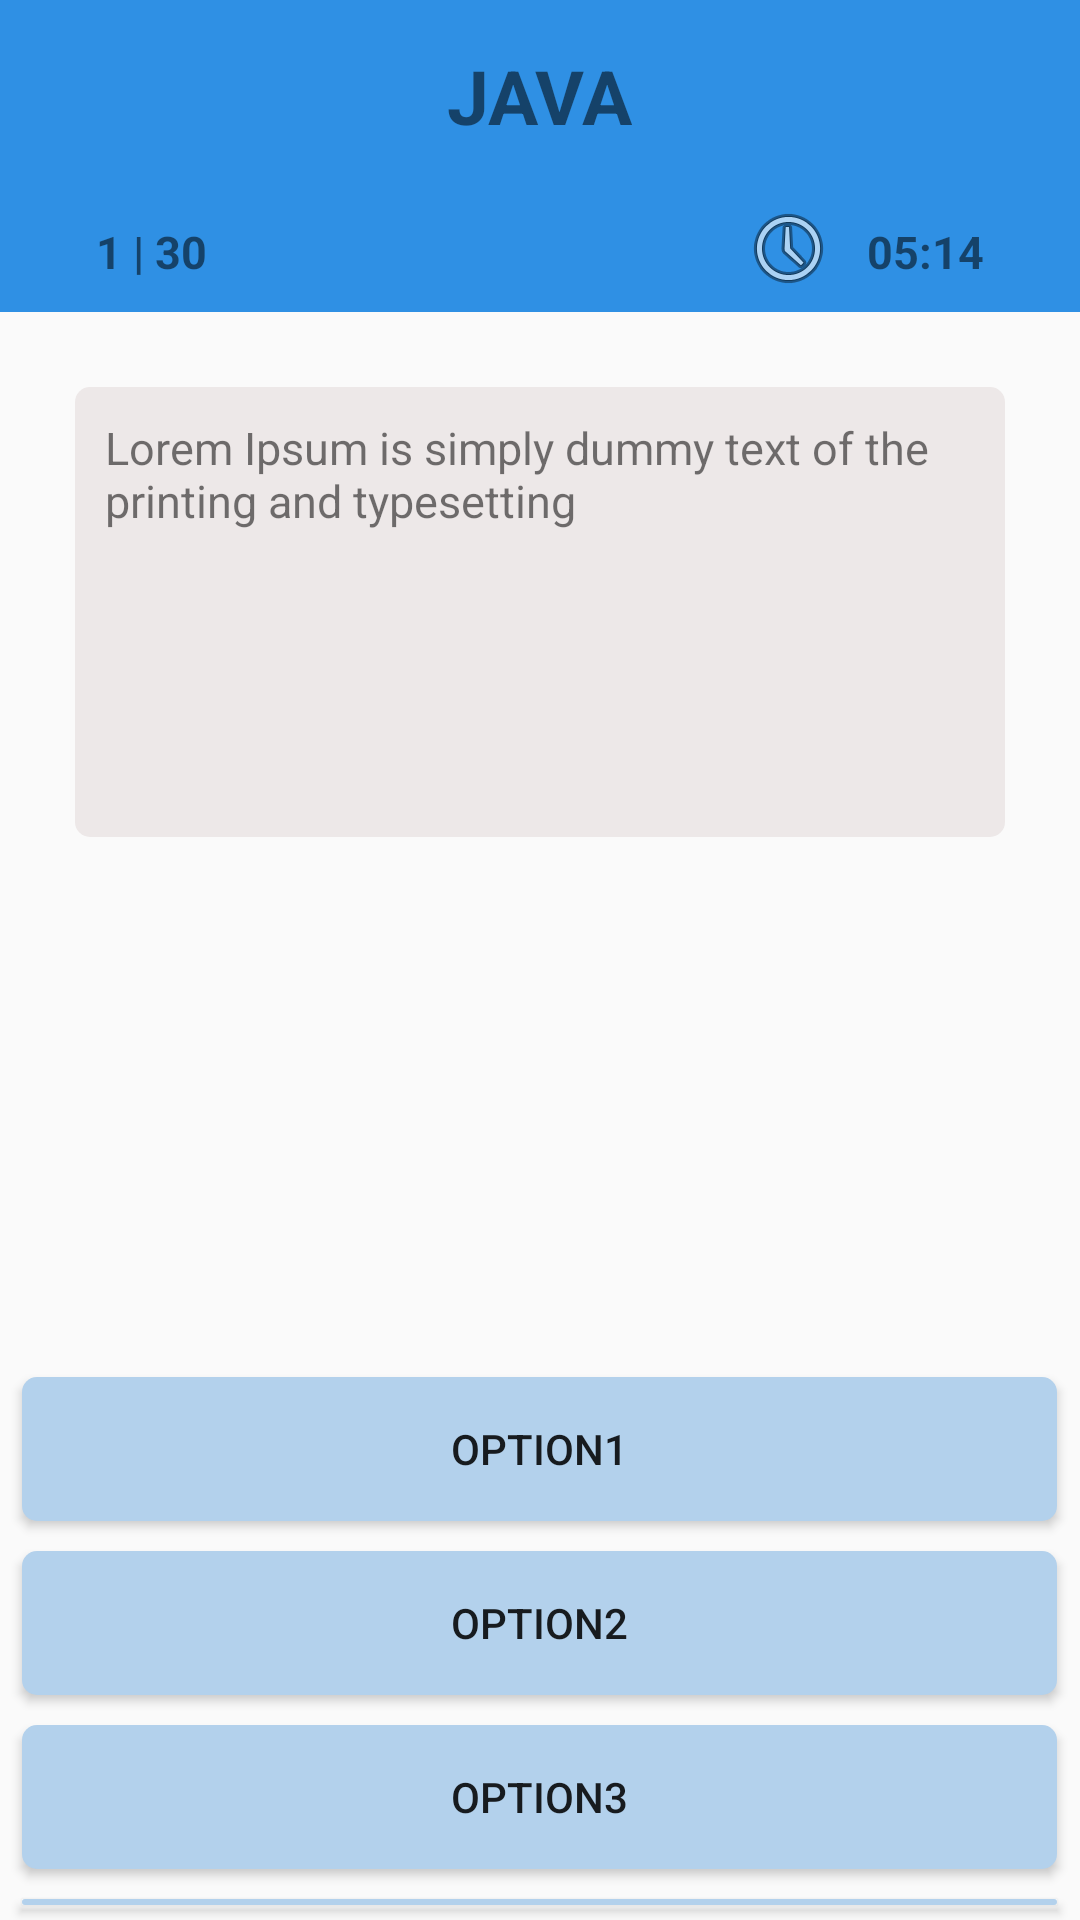

Icon bounding boxes for this 1080px×1920px phone screenshot, format (x1, y1, x2, y2):
recent history: (754, 214, 823, 283)
